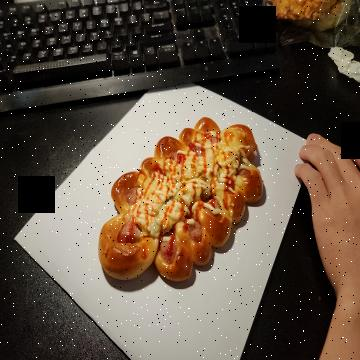pizza_bread: (99, 118, 264, 283)
